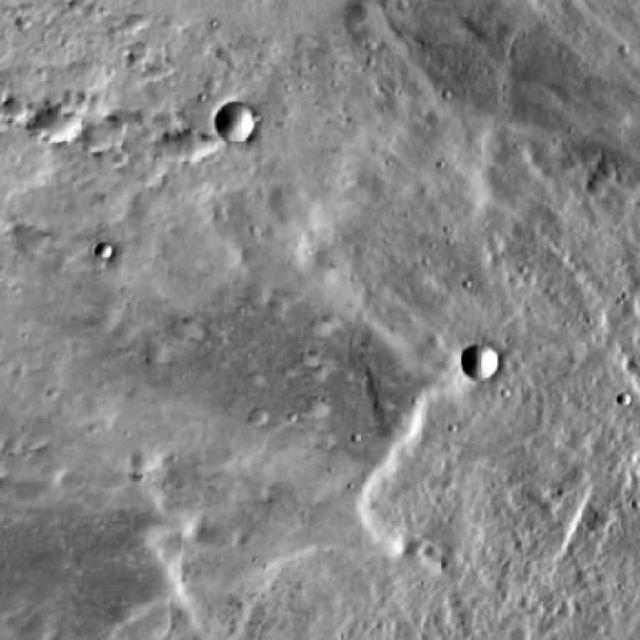crater: (170, 122, 216, 168), (44, 101, 88, 144), (218, 100, 258, 140), (462, 342, 500, 380), (131, 449, 160, 476), (91, 124, 118, 150), (112, 112, 138, 138), (11, 95, 35, 118), (311, 398, 332, 420), (591, 172, 612, 192), (148, 58, 168, 78), (129, 42, 149, 62), (248, 408, 267, 426), (94, 244, 111, 261), (320, 432, 338, 448), (0, 446, 6, 468), (0, 106, 5, 126)
